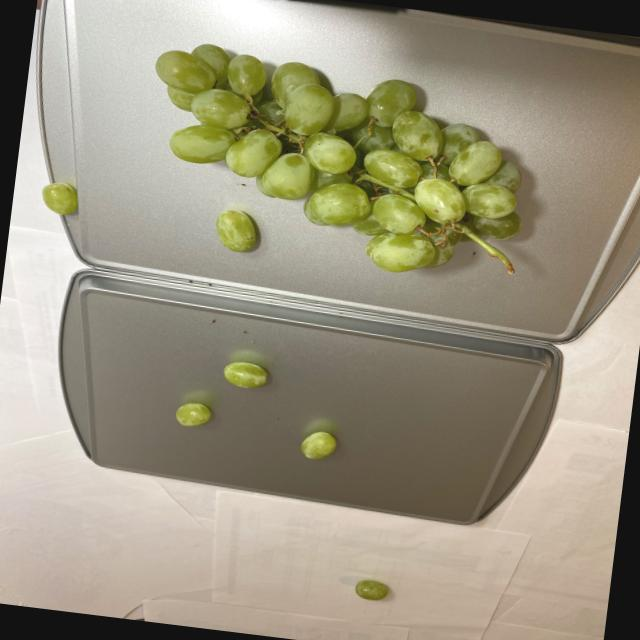grapes: (132, 37, 536, 288), (174, 348, 353, 464)
